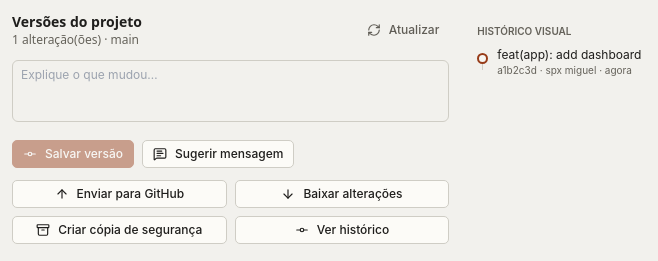
Test: VersionControlPanel › uses beginner-friendly actions and keeps an AI suggestion editable
Expected: the button "Salvar versão" is shown, [12, 140, 134, 168]
Expected: the button "Enviar para GitHub" is shown, [12, 180, 227, 208]
What coordinates should you click on to do the following:
click the button "Sugerir mensagem"
I would click on:
 (218, 154)
Its box is [142, 140, 294, 168].
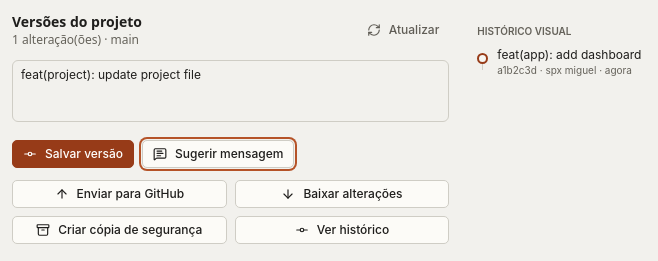
Now the text box with placeholder "Explique o que mudou…" holds "feat(project): update project file", box [12, 60, 449, 122]
